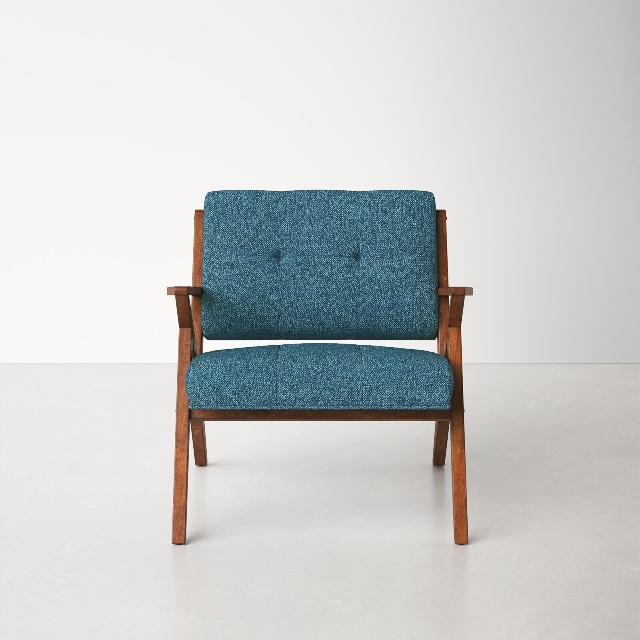obstacle: (168, 190, 472, 544)
